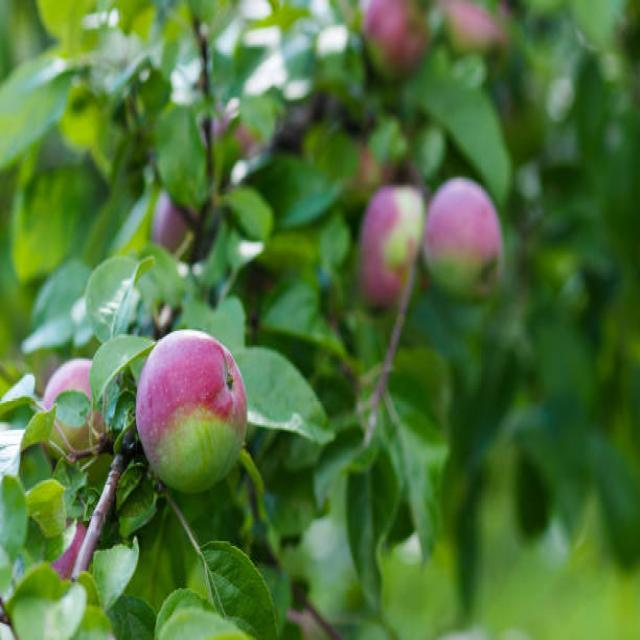Unripe: (132, 330, 245, 491), (422, 178, 502, 302)
